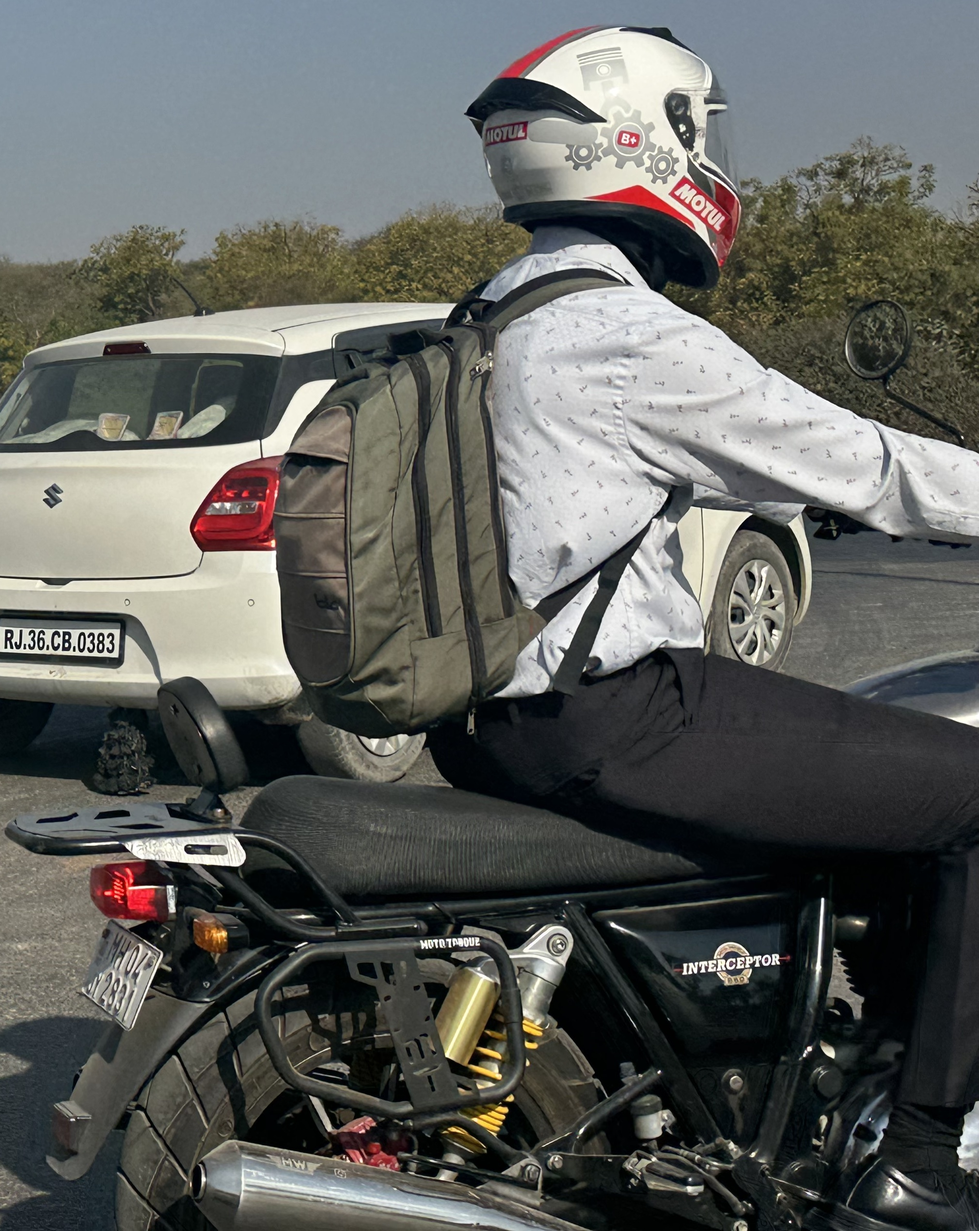BikeWithRider: (6, 10, 979, 1230)
Helmet: (451, 12, 758, 297)
